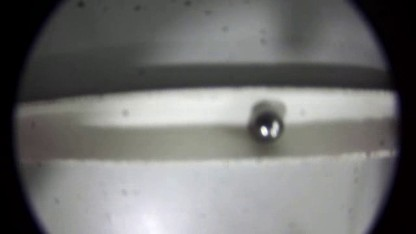gangzhu: (248, 113, 287, 143)
